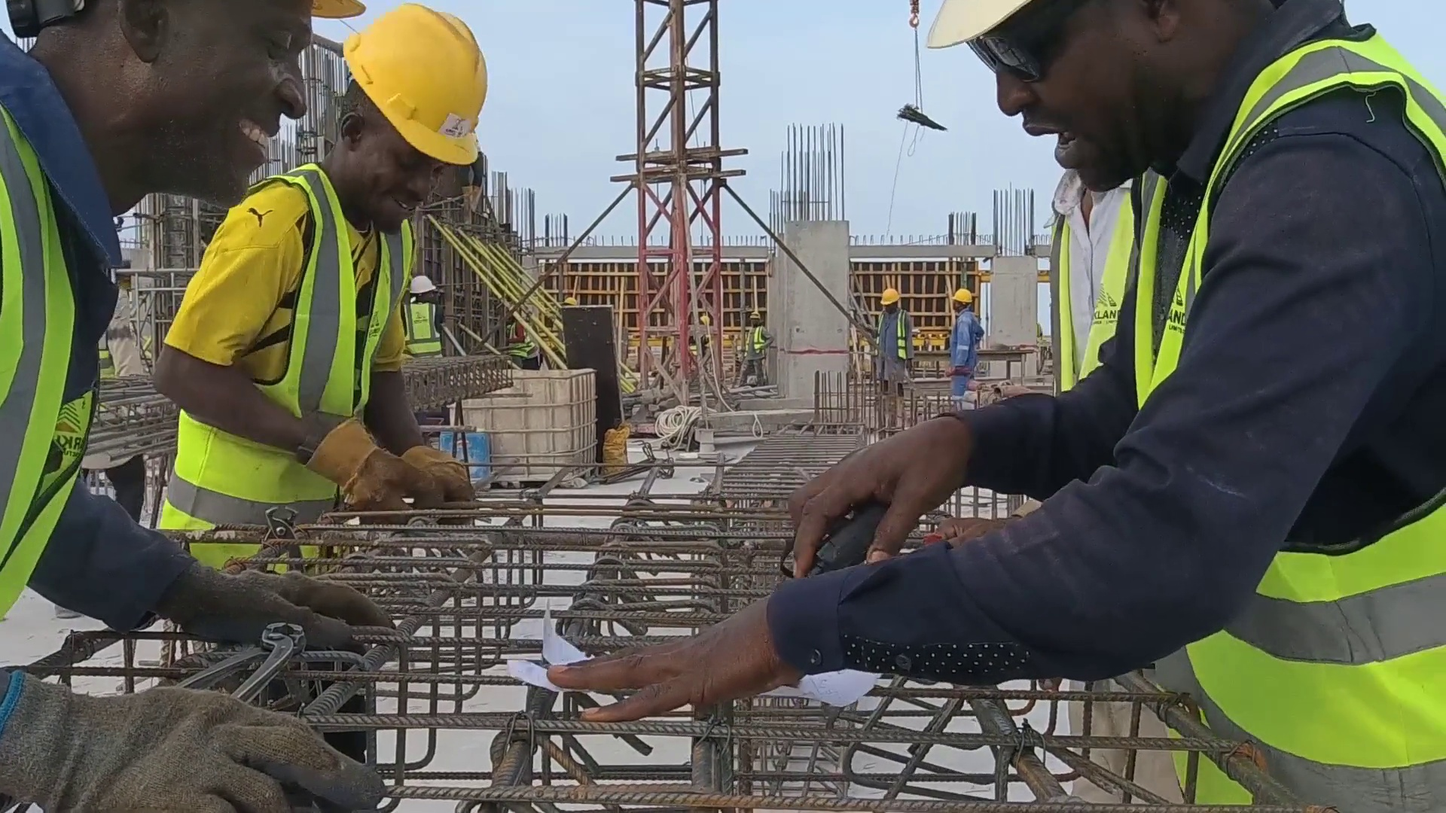helmet: (343, 4, 489, 169), (925, 0, 1033, 48), (311, 1, 368, 17), (410, 275, 439, 294), (953, 288, 976, 305), (881, 289, 901, 306), (563, 298, 578, 307), (749, 312, 762, 319)
person: (535, 1, 1446, 813), (0, 0, 406, 813), (148, 6, 489, 554), (1042, 161, 1138, 397), (397, 276, 450, 428), (871, 288, 913, 400), (944, 288, 984, 400), (731, 312, 775, 389), (501, 306, 548, 370)
